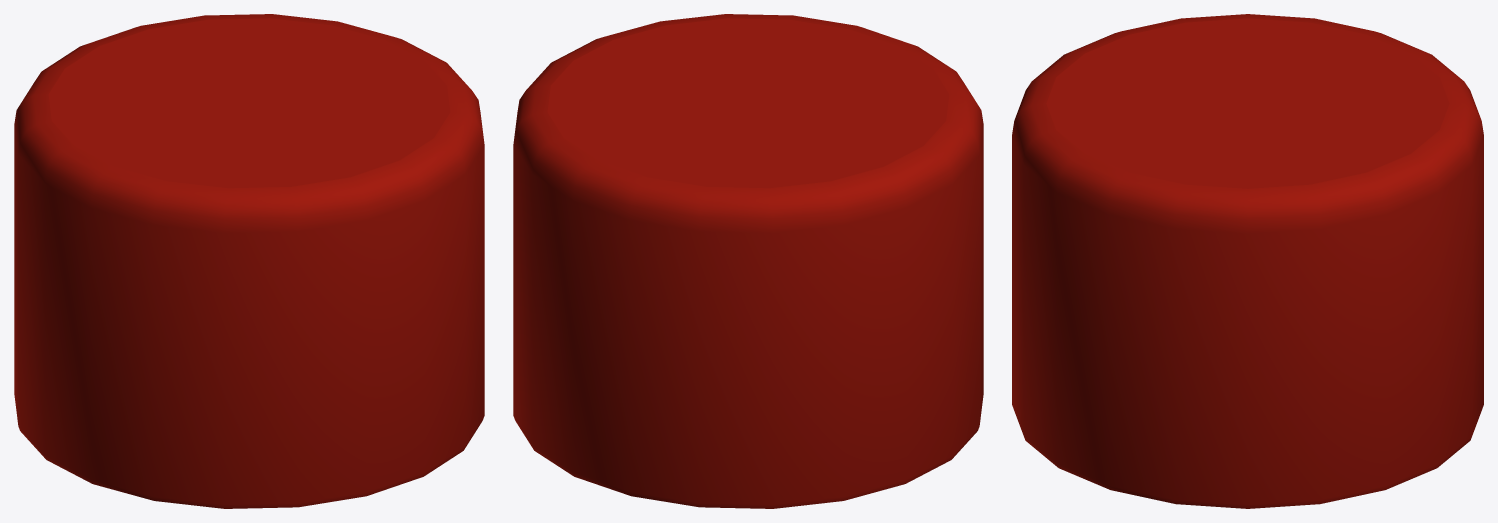
Rendered from P_Pouf_Colored_Unreakable.fbx.
3 views of the same model, side by side, from view 1: azimuth 30°, elevation 25°; view 2: azimuth 150°, elevation 25°; view 3: azimuth 270°, elevation 25° (orthographic).
Parts seen in each view (by area): view 1: P_Pouf_Colored_Breakable; view 2: P_Pouf_Colored_Breakable; view 3: P_Pouf_Colored_Breakable.
Boxes of the visible parts, left/top/right/bottom form: P_Pouf_Colored_Breakable: left=14, top=14, right=484, bottom=508; P_Pouf_Colored_Breakable: left=513, top=14, right=983, bottom=508; P_Pouf_Colored_Breakable: left=1012, top=14, right=1483, bottom=508.
Bounding box in the file's own units: 1.51 × 1.09 × 1.51.
